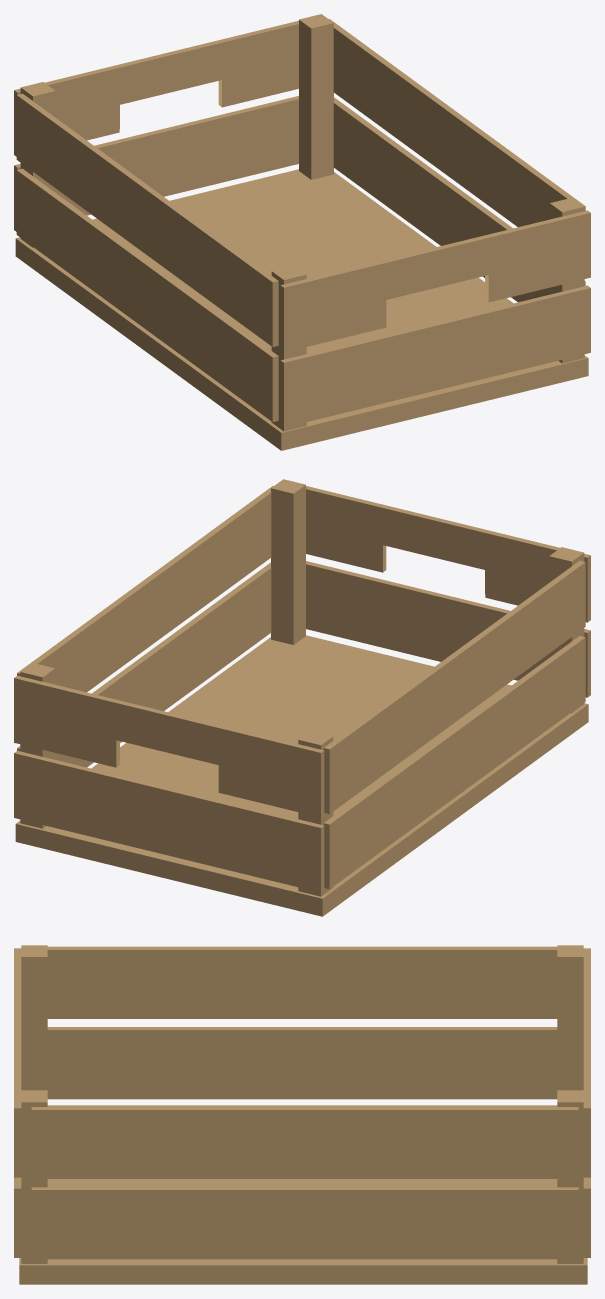
Rendered from O_Clutter_WoodenVeggyCrate_Small1.fbx.
3 views of the same model, one above another, from view 1: azimuth 30°, elevation 25°; view 2: azimuth 150°, elevation 25°; view 3: azimuth 270°, elevation 25° (orthographic). The views are drawn at different scales.
Visible parts, largest first — view 1: pCube34; view 2: pCube34; view 3: pCube34.
Part boxes in pixels (x1,y1,x2,y2): pCube34: (14,14,590,450); pCube34: (14,479,590,916); pCube34: (14,945,590,1284).
Size of the model in its own units: 1.44 by 0.7461 by 2.16.
